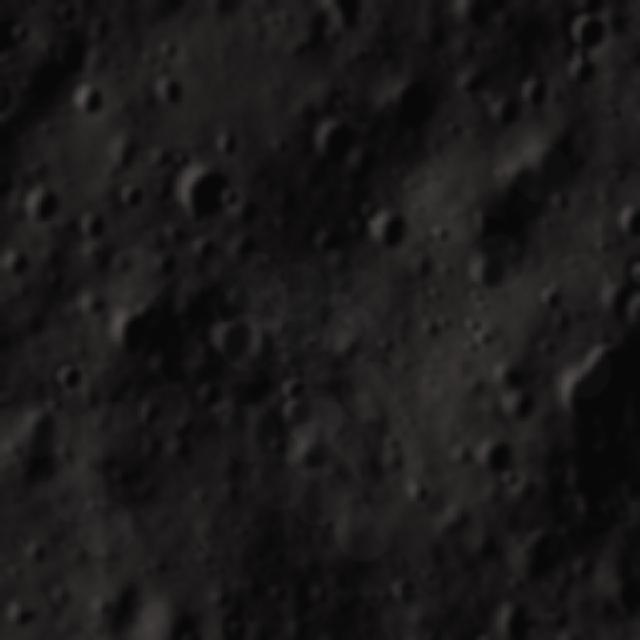crater: (173, 163, 241, 229), (104, 298, 164, 362), (516, 522, 570, 586), (388, 73, 435, 132), (310, 116, 362, 169), (211, 316, 257, 369), (308, 0, 384, 31), (15, 405, 57, 457), (248, 320, 292, 368), (467, 245, 510, 293), (592, 278, 634, 327), (562, 9, 607, 54), (500, 595, 542, 640), (290, 431, 336, 472), (376, 206, 409, 262), (19, 178, 59, 224), (473, 437, 516, 477), (54, 36, 91, 82), (148, 67, 188, 108), (487, 90, 521, 138), (106, 132, 145, 172), (388, 569, 424, 611), (282, 392, 320, 430), (451, 66, 486, 106), (612, 195, 640, 243), (218, 281, 253, 319), (73, 206, 109, 242), (69, 81, 103, 119), (522, 73, 555, 110), (0, 242, 31, 280), (540, 273, 568, 315), (114, 178, 146, 214), (50, 357, 78, 397), (50, 0, 83, 32), (274, 372, 308, 403), (458, 0, 490, 32), (8, 18, 37, 50), (621, 247, 640, 293), (222, 614, 255, 640), (0, 78, 22, 116), (220, 178, 245, 211), (158, 35, 182, 63), (627, 288, 640, 336), (469, 624, 508, 640), (0, 45, 22, 70), (179, 627, 206, 640)
